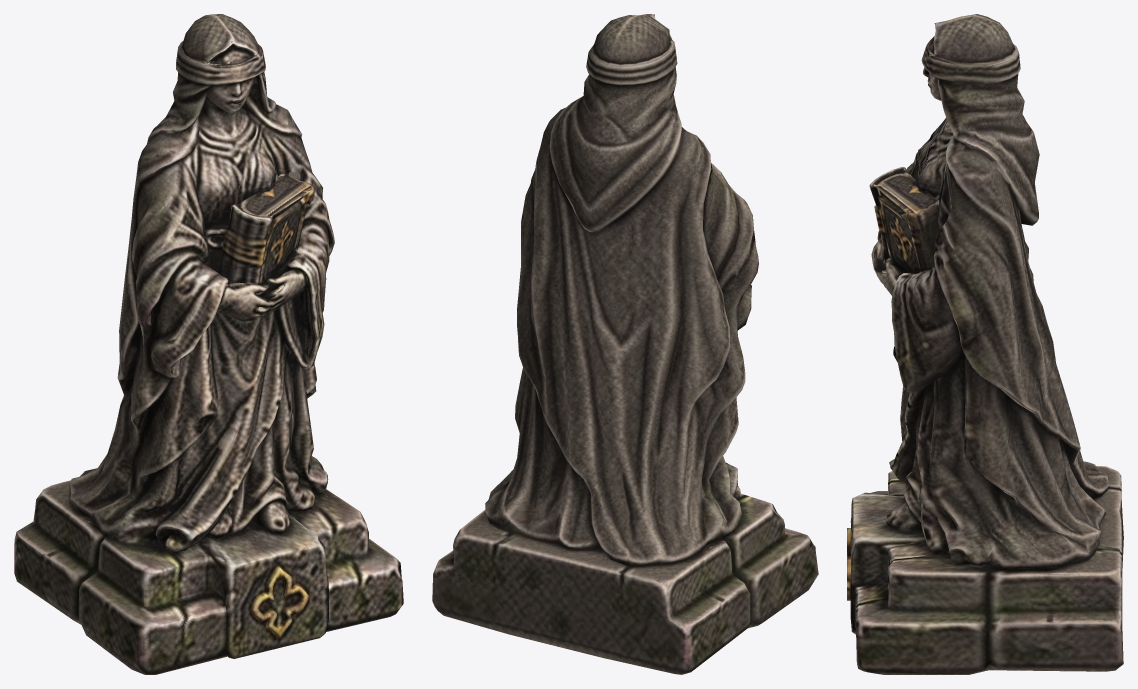
The model's file is posag.glb.
The picture shows the model from 3 angles, left to right: view 1: azimuth 30°, elevation 25°; view 2: azimuth 150°, elevation 25°; view 3: azimuth 270°, elevation 25°; orthographic projection. The views are drawn at different scales.
Parts seen in each view (by area): view 1: Mesh_0; view 2: Mesh_0; view 3: Mesh_0.
Boxes of the visible parts, left/top/right/bottom form: Mesh_0: left=14, top=14, right=403, bottom=674; Mesh_0: left=432, top=14, right=818, bottom=674; Mesh_0: left=847, top=14, right=1123, bottom=674.
Bounding box in the file's own units: 0.4521 × 0.9512 × 0.3994.
1 material, 1 textured.
